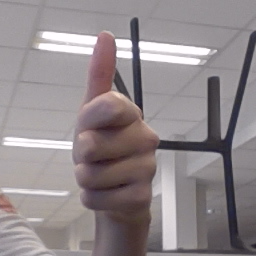G: (69, 30, 161, 214)
